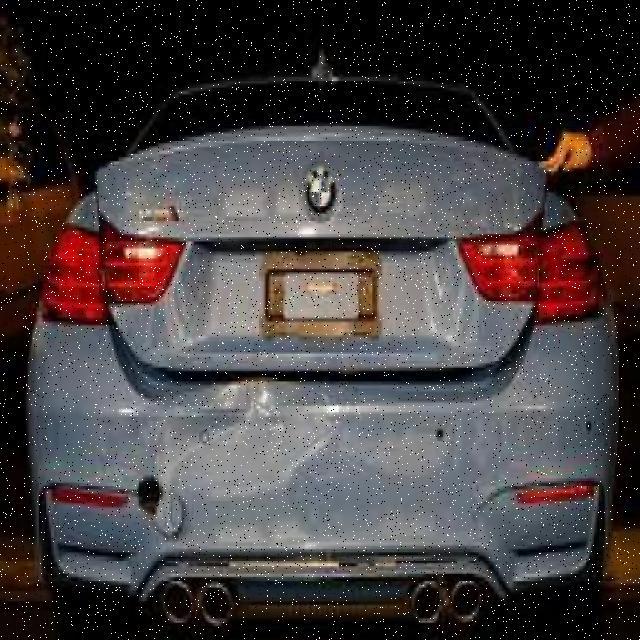damage: (143, 377, 341, 502)
